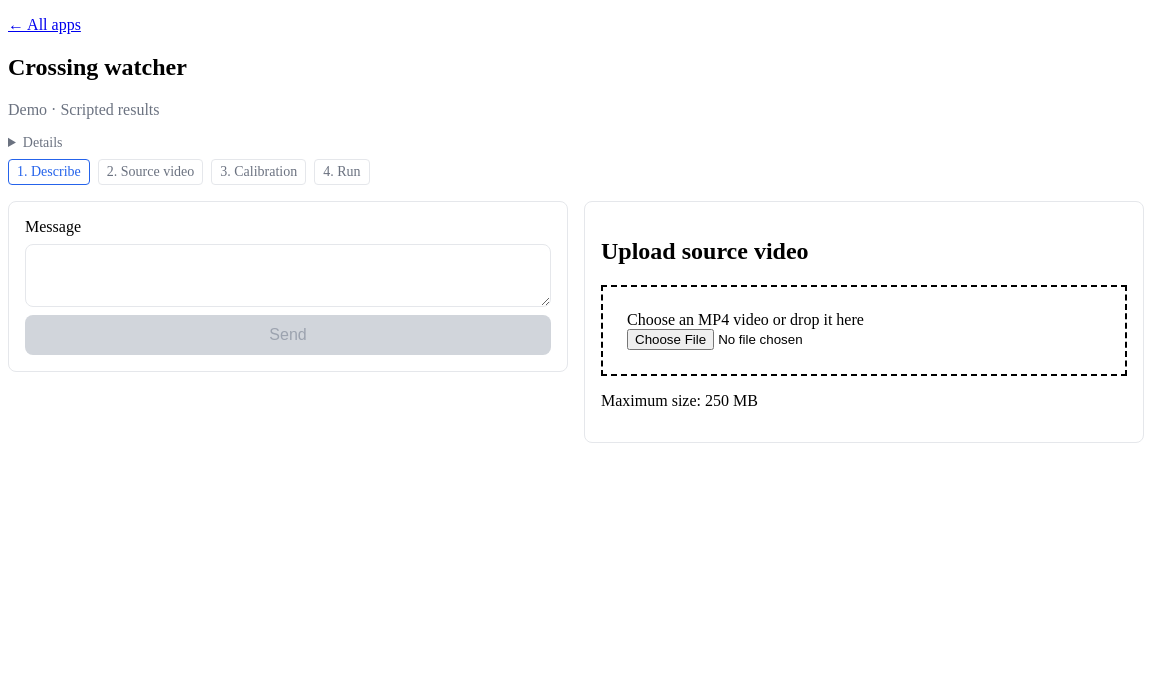
Scenario: WorkspacePage › surfaces clarification outcomes in the chat panel
Type "Catch red light runners" into the text box labelled "Message".
click(288, 275); type("Catch red light runners")  # box [25,244,551,307]
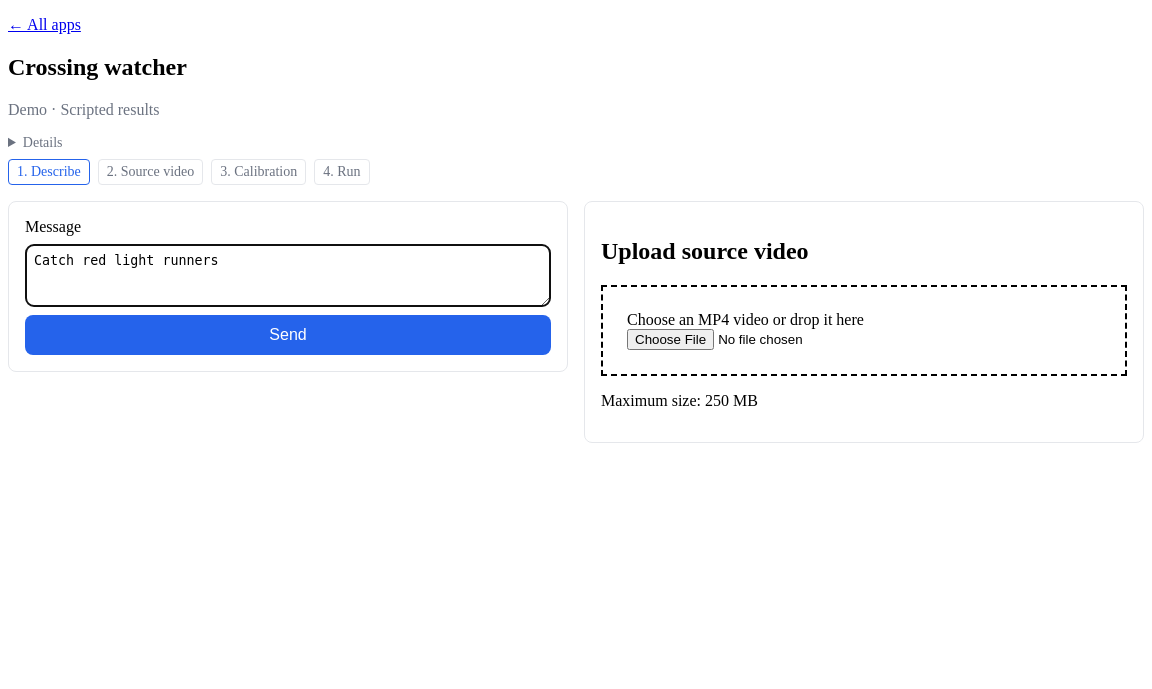
Click the button "Send".
click(288, 335)  # box [25,315,551,355]
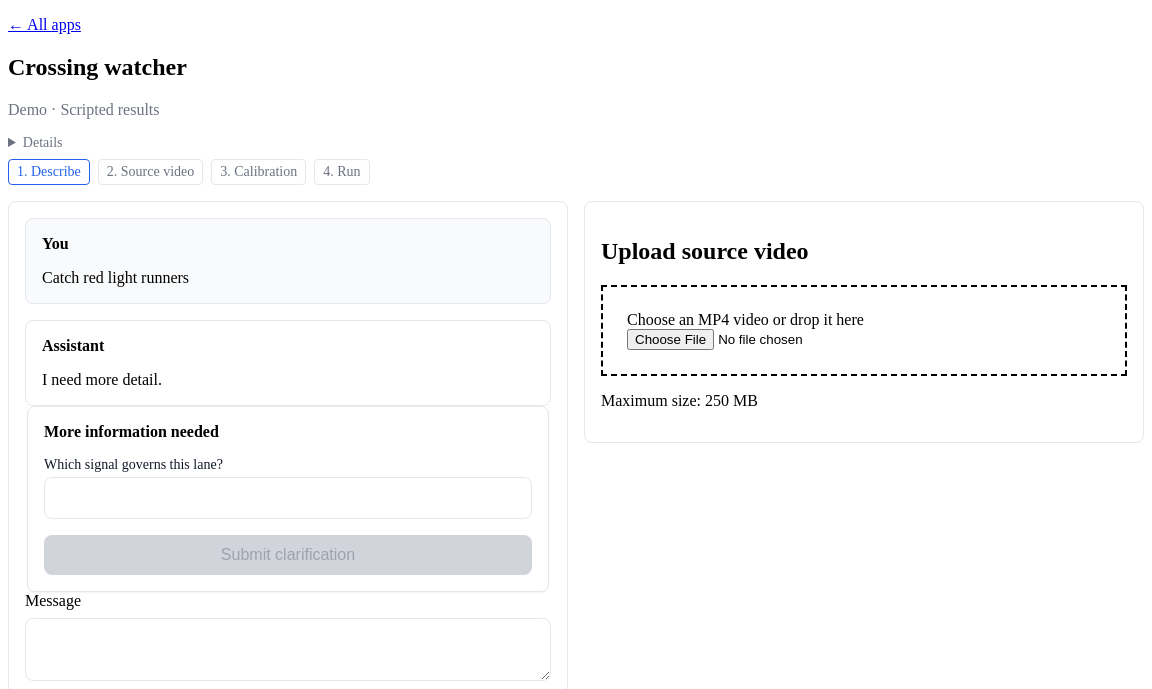
Type "Left signal" into the field labelled "Which signal governs this lane?".
click(288, 498); type("Left signal")  # box [44,477,532,519]
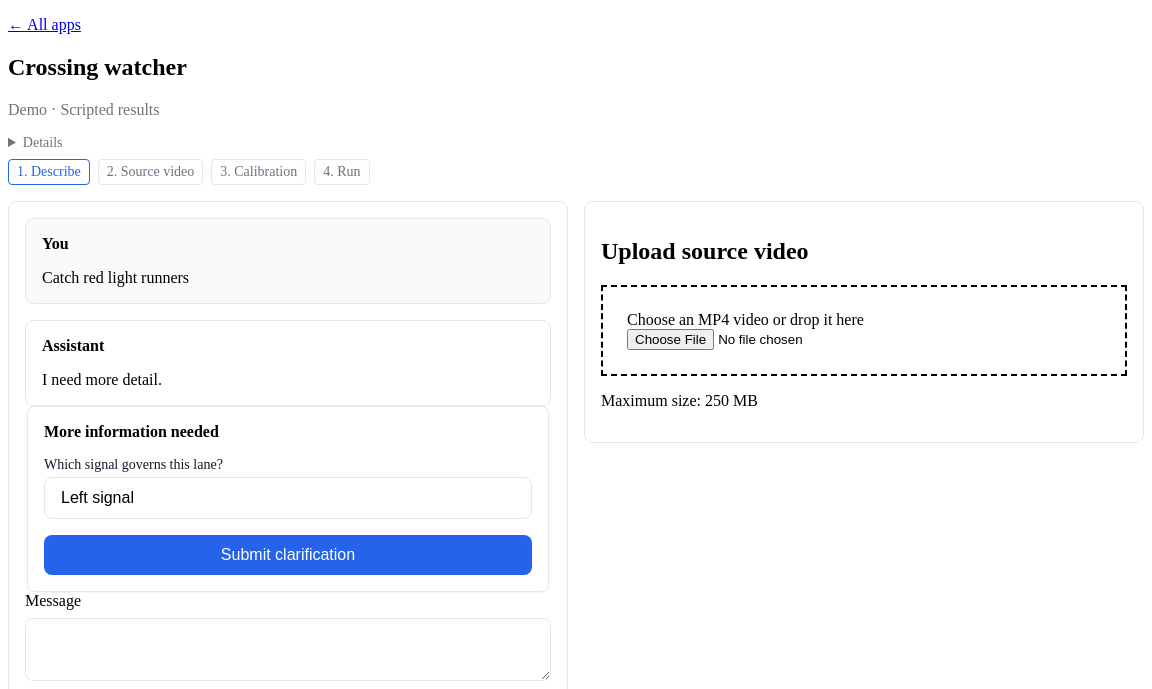
Click the button "Submit clarification".
click(288, 555)  # box [44,535,532,575]
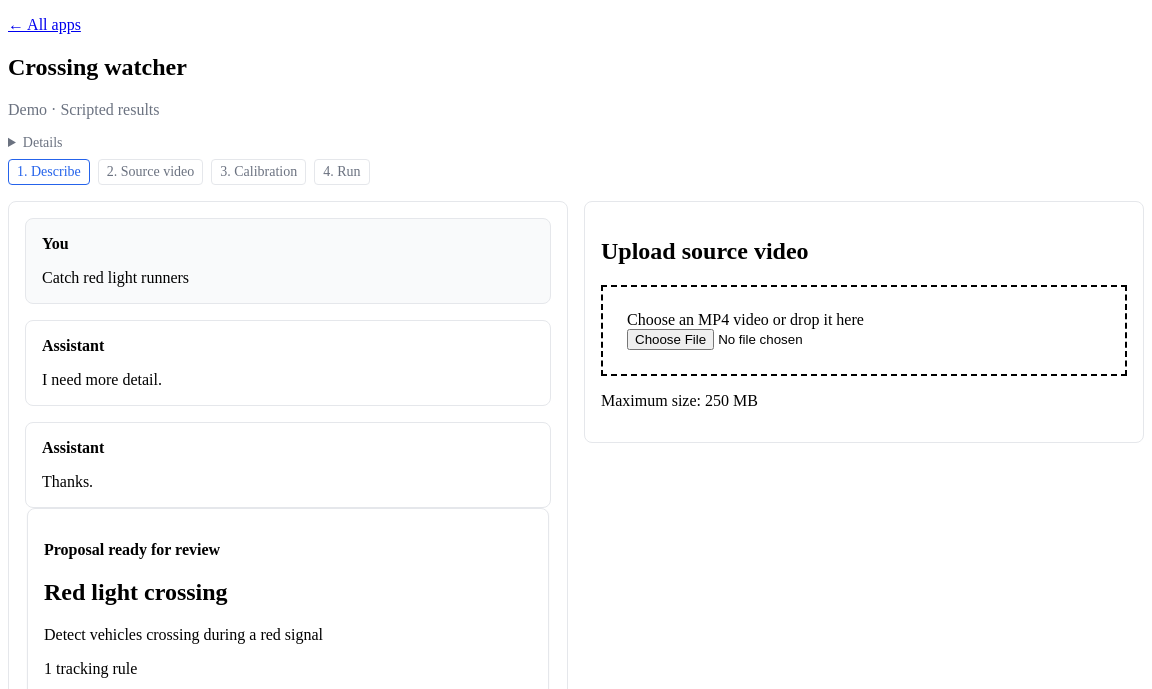
Now the heading "Red light crossing" is shown, box [44,579,228,605]
